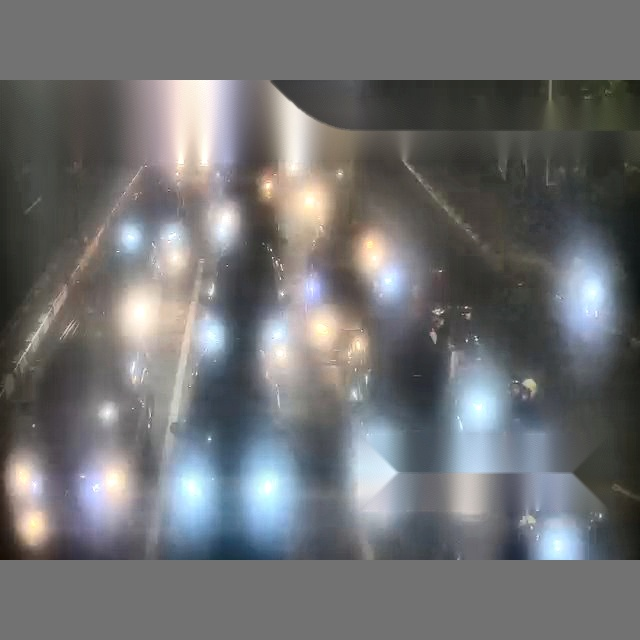Mobil: (155, 298, 305, 557)
